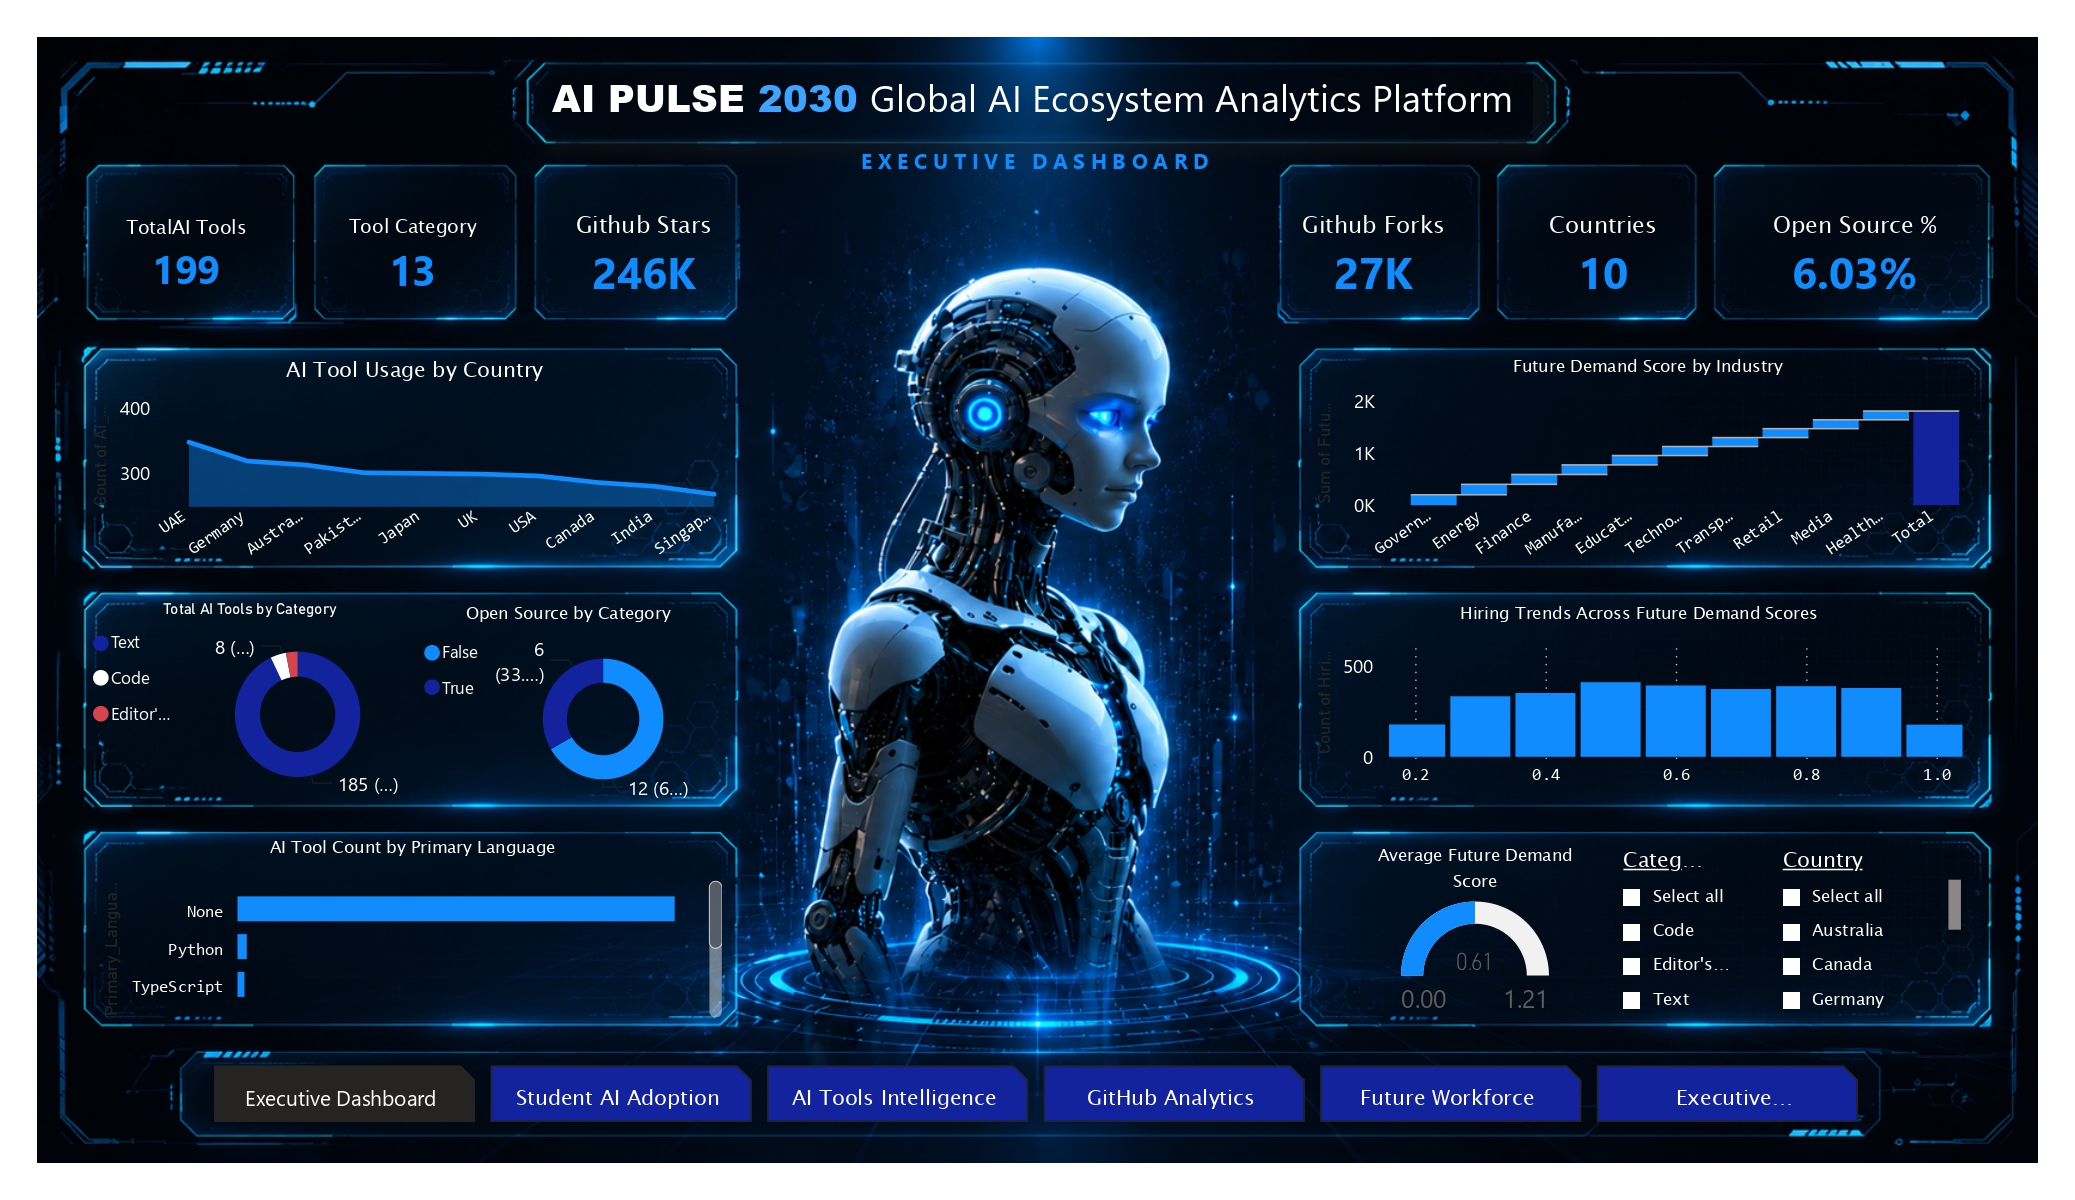

This screenshot's page, from the dashboard's own definition file:
{"tool":"powerbi","page":{"name":"AI Tools Intelligence","canvas":[1280,720],"ordinal":1},"visuals":[{"type":"textbox","box":[323.3,16.7,633.3,48.3],"z":0},{"type":"textbox","box":[476,66,300,30],"z":1000},{"type":"cardVisual","fields":{"Data":["TOOLS CLEANED DATA.Total AI Tools"]},"box":[30,96.7,130,83.3],"z":2000},{"type":"cardVisual","fields":{"Data":["TOOLS CLEANED DATA.Categories"]},"box":[175,96.7,130,83.3],"z":3000},{"type":"cardVisual","fields":{"Data":["TOOLS CLEANED DATA.Github Stars"]},"box":[323.3,96.7,130,83.3],"z":4000},{"type":"cardVisual","fields":{"Data":["TOOLS CLEANED DATA.Github Forks"]},"box":[790,96.7,130,83.3],"z":5000},{"type":"cardVisual","fields":{"Data":["JOB CLEANED DATA.Countries"]},"box":[936.7,96.7,130,83.3],"z":6000},{"type":"cardVisual","fields":{"Data":["TOOLS CLEANED DATA.Primary Language"]},"box":[1078.3,96.7,170,83.3],"z":7000},{"type":"areaChart","title":"AI Tool Usage by Country","fields":{"Category":["JOB CLEANED DATA.Country"],"Y":["CountNonNull(JOB CLEANED DATA.AI_Tool_Usage)"]},"box":[30,201.7,423.3,141.7],"z":8000},{"type":"waterfallChart","title":"Future Demand Score by Industry","fields":{"Category":["JOB CLEANED DATA.Industry"],"Y":["Sum(JOB CLEANED DATA.Future_Demand_Score)"]},"box":[813.3,201.7,435,141.7],"z":9000},{"type":"donutChart","fields":{"Y":["TOOLS CLEANED DATA.Total AI Tools"],"Category":["TOOLS CLEANED DATA.Category"]},"box":[30,360,211.7,135],"z":10000},{"type":"donutChart","title":"Open Source by Category","fields":{"Category":["TOOLS CLEANED DATA.Is_Open_Source"],"Y":["CountNonNull(TOOLS CLEANED DATA.Category)"]},"box":[241.7,360,195,135],"z":11000},{"type":"clusteredColumnChart","title":"Hiring Trends Across Future Demand Scores","fields":{"Category":["JOB CLEANED DATA.Future_Demand_Score"],"Y":["CountNonNull(JOB CLEANED DATA.Hiring_Trend_2026)"]},"box":[813.3,360,423.3,126.7],"z":12000},{"type":"gauge","title":"Average Future Demand Score","fields":{"Y":["Avg(JOB CLEANED DATA.Future_Demand_Score)"]},"box":[848.3,515,143.3,121.7],"z":13000},{"type":"clusteredBarChart","title":"AI Tool Count by Primary Language","fields":{"Category":["TOOLS CLEANED DATA.Primary_Language"],"Y":["CountNonNull(TOOLS CLEANED DATA.Tool_Name)"]},"box":[36.7,510,406.7,121.7],"z":14000},{"type":"pageNavigator","box":[113.3,658.3,1053.3,36.7],"z":15000},{"type":"slicer","fields":{"Values":["TOOLS CLEANED DATA.Category"]},"box":[1002.1,510.6,87.5,120.9],"z":16000},{"type":"slicer","fields":{"Values":["JOB CLEANED DATA.Country"]},"box":[1103.9,510.6,132,120.9],"z":17000},{"type":"textbox","box":[575.8,598.1,149.5,38.2],"z":18000}]}

Visuals, with their boxes on the page's 1280x720 design canvas (x1, y1, x2, y2). These are canvas units, not pixel positions in the 2075x1200 screenshot, which may show the page scaled, cropped or inside an application window:
textbox: bbox=[323, 17, 957, 65]
textbox: bbox=[476, 66, 776, 96]
cardVisual - TOOLS CLEANED DATA.Total AI Tools: bbox=[30, 97, 160, 180]
cardVisual - TOOLS CLEANED DATA.Categories: bbox=[175, 97, 305, 180]
cardVisual - TOOLS CLEANED DATA.Github Stars: bbox=[323, 97, 453, 180]
cardVisual - TOOLS CLEANED DATA.Github Forks: bbox=[790, 97, 920, 180]
cardVisual - JOB CLEANED DATA.Countries: bbox=[937, 97, 1067, 180]
cardVisual - TOOLS CLEANED DATA.Primary Language: bbox=[1078, 97, 1248, 180]
"AI Tool Usage by Country" areaChart: bbox=[30, 202, 453, 343]
"Future Demand Score by Industry" waterfallChart: bbox=[813, 202, 1248, 343]
donutChart - TOOLS CLEANED DATA.Total AI Tools x TOOLS CLEANED DATA.Category: bbox=[30, 360, 242, 495]
"Open Source by Category" donutChart: bbox=[242, 360, 437, 495]
"Hiring Trends Across Future Demand Scores" clusteredColumnChart: bbox=[813, 360, 1237, 487]
"Average Future Demand Score" gauge: bbox=[848, 515, 992, 637]
"AI Tool Count by Primary Language" clusteredBarChart: bbox=[37, 510, 443, 632]
pageNavigator: bbox=[113, 658, 1167, 695]
slicer - TOOLS CLEANED DATA.Category: bbox=[1002, 511, 1090, 632]
slicer - JOB CLEANED DATA.Country: bbox=[1104, 511, 1236, 632]
textbox: bbox=[576, 598, 725, 636]
